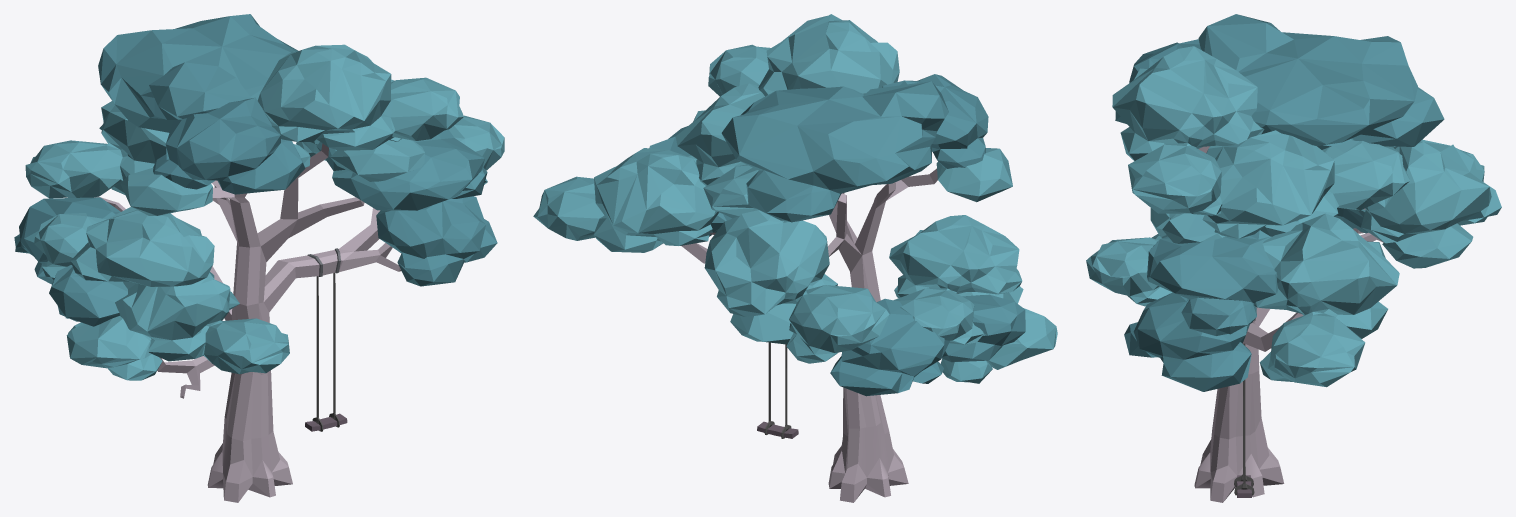
The model's file is SM_Env_Tree_Large_01.fbx.
The picture shows the model from 3 angles, left to right: view 1: azimuth 30°, elevation 25°; view 2: azimuth 150°, elevation 25°; view 3: azimuth 270°, elevation 25°; orthographic projection. The views are drawn at different scales.
Parts seen in each view (by area): view 1: SM_Env_Tree_Large_01, SM_Env_Tree_Large_Swing_01; view 2: SM_Env_Tree_Large_01, SM_Env_Tree_Large_Swing_01; view 3: SM_Env_Tree_Large_01, SM_Env_Tree_Large_Swing_01.
Boxes of the visible parts, x1,y1,x2,y2 form: SM_Env_Tree_Large_01: [14, 14, 504, 502]; SM_Env_Tree_Large_Swing_01: [305, 272, 347, 431]; SM_Env_Tree_Large_01: [533, 14, 1057, 502]; SM_Env_Tree_Large_Swing_01: [757, 342, 798, 438]; SM_Env_Tree_Large_01: [1086, 14, 1501, 502]; SM_Env_Tree_Large_Swing_01: [1234, 343, 1254, 497].
Size of the model in its own units: 14.31 by 12.84 by 10.49.
Materials: 1 (1 with a texture image).
